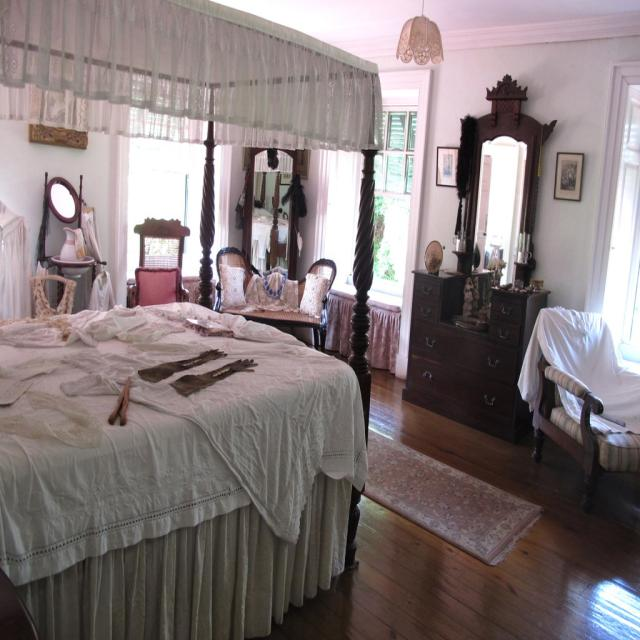Table: (222, 302, 326, 346)
